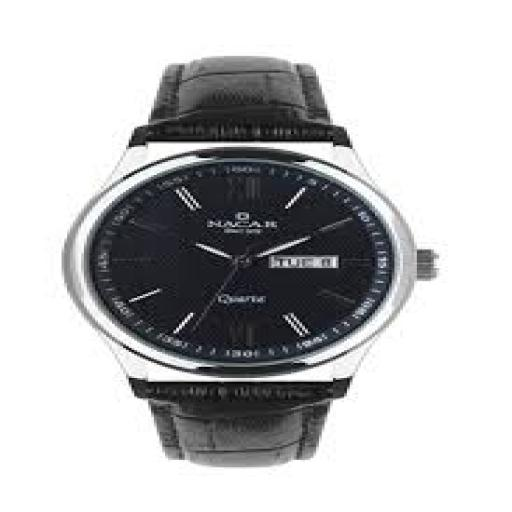KolSaati: (41, 38, 468, 453)
